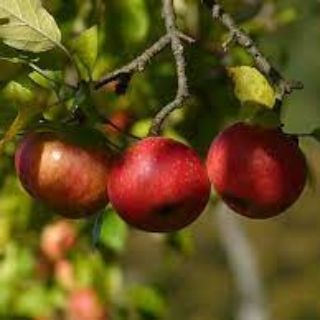tao: (204, 117, 311, 224), (109, 134, 210, 238), (11, 127, 105, 225)
